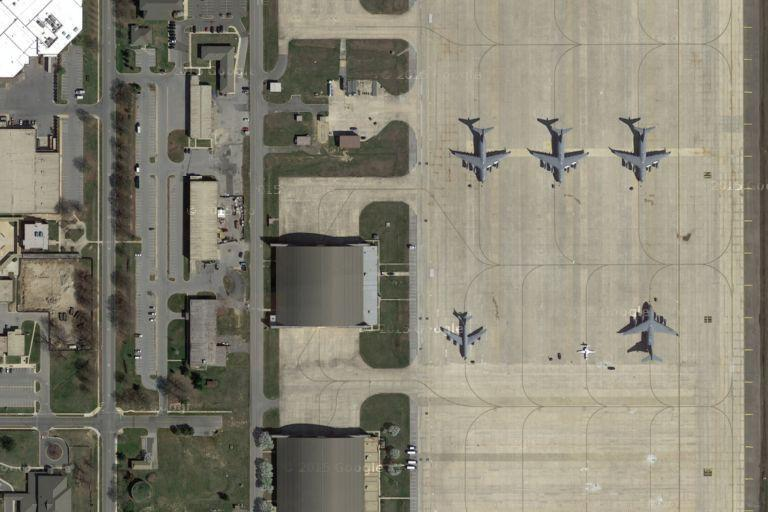C-17: (448, 119, 515, 185), (609, 122, 675, 188), (526, 121, 590, 188), (619, 300, 683, 365)
KC-135: (440, 311, 489, 362)
